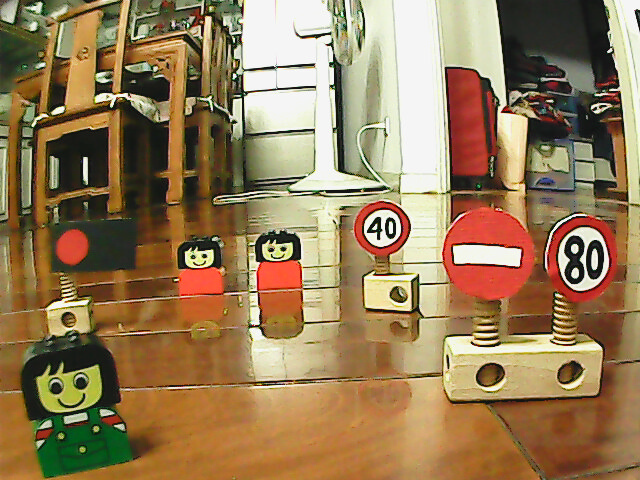Person: (175, 234, 228, 296), (254, 229, 304, 294)
Red Traffic Light: (51, 223, 97, 270)
Speed Limit 40: (352, 199, 414, 257)
Speed Limit 80: (539, 209, 622, 306)
Stop Sign: (440, 205, 539, 303)
